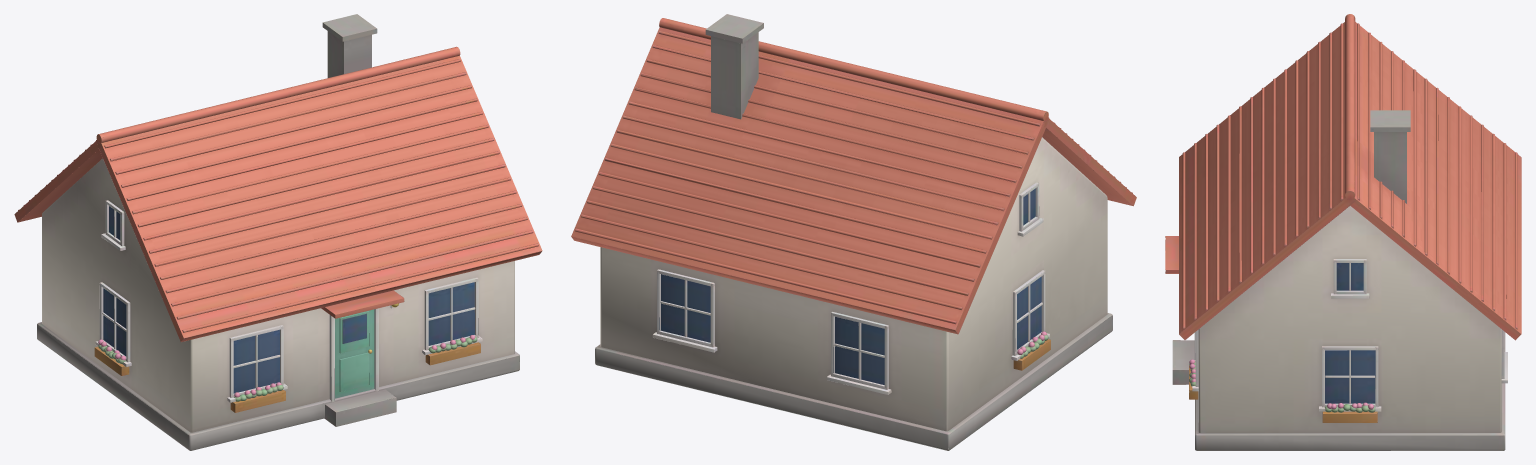
Rendered from cottage-house.glb.
3 renders of one model, left to right at view 1: azimuth 30°, elevation 25°; view 2: azimuth 150°, elevation 25°; view 3: azimuth 270°, elevation 25°, orthographic. The views are drawn at different scales.
Visible parts, largest first — view 1: cottage-house_body; view 2: cottage-house_body; view 3: cottage-house_body.
Part boxes in pixels (x1,y1,x2,y2): cottage-house_body: [14, 14, 542, 450]; cottage-house_body: [571, 14, 1136, 450]; cottage-house_body: [1165, 14, 1521, 450].
Bounding box in the file's own units: 8.84 × 6.9 × 7.51.
Materials: 1 (1 with a texture image).
